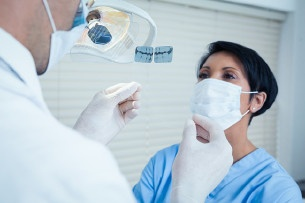Mask: (190, 61, 257, 128)
